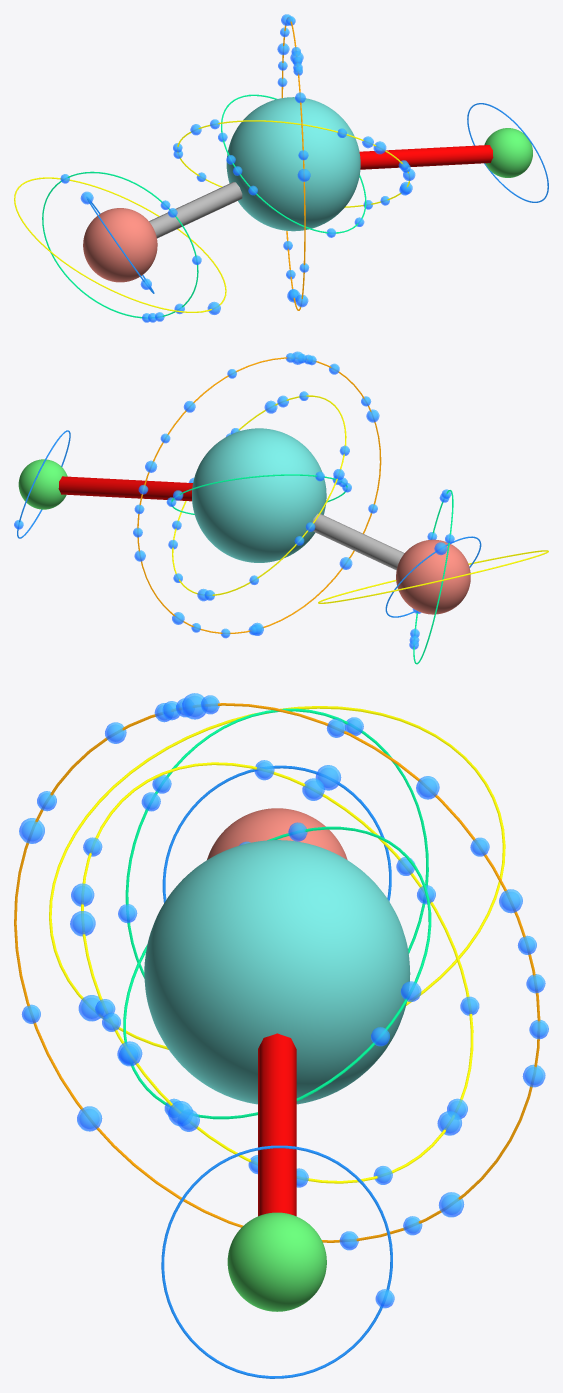
File: NaTeH.glb
3 views of the same model, one above another, from view 1: azimuth 30°, elevation 25°; view 2: azimuth 150°, elevation 25°; view 3: azimuth 270°, elevation 25° (orthographic). The views are drawn at different scales.
Parts seen in each view (by area): view 1: Te, Na, object 140, H, object 141, object 24, object 7, object 87, object 50, object 33, object 137; view 2: Te, Na, object 140, object 141, H, object 87, object 24, object 50, object 7, object 33, object 137; view 3: Te, H, object 140, object 87, Na, object 50, object 24, object 137, object 33, object 7, object 2.
Boxes of the visible parts, x1,y1,x2,y2 form: Te: (226,97,360,231); Na: (83,208,157,282); object 140: (359,145,493,169); H: (484,128,532,177); object 141: (149,182,242,238); object 24: (14,177,226,312); object 7: (42,171,198,318); object 87: (281,17,305,310); object 50: (177,120,409,207); object 33: (221,94,366,233); object 137: (467,103,548,202); Te: (192,428,326,562); Na: (396,539,470,614); object 140: (58,476,192,501); object 141: (312,513,404,570); H: (18,459,67,509); object 87: (137,357,381,633); object 24: (318,550,548,603); object 50: (172,395,346,595); object 7: (413,490,453,664); object 33: (171,474,347,514); object 137: (17,430,70,538); Te: (144,840,410,1104); H: (227,1212,326,1311); object 140: (258,1033,296,1216); object 87: (14,703,540,1242); Na: (207,808,347,859); object 50: (81,762,473,1183); object 24: (49,706,505,1049); object 137: (161,1145,392,1378); object 33: (123,826,431,1119); object 7: (125,708,428,978); object 2: (162,765,391,902).
Size of the model in its own units: 11.92 by 6.16 by 5.53.
